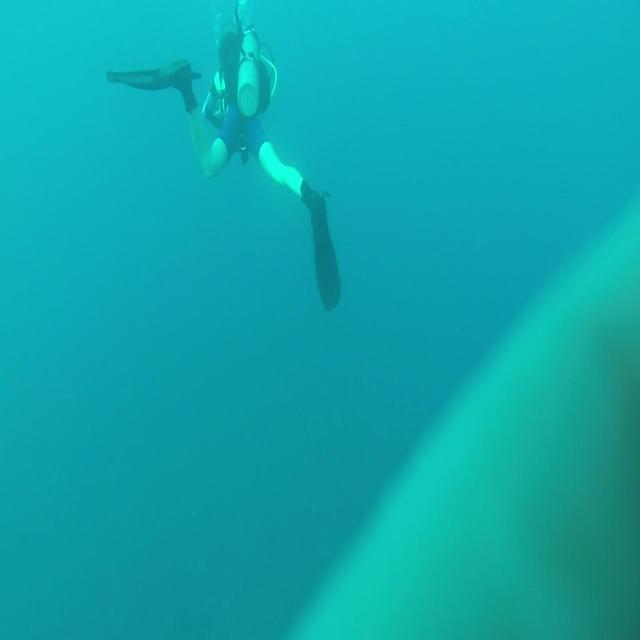human: (105, 0, 342, 313)
